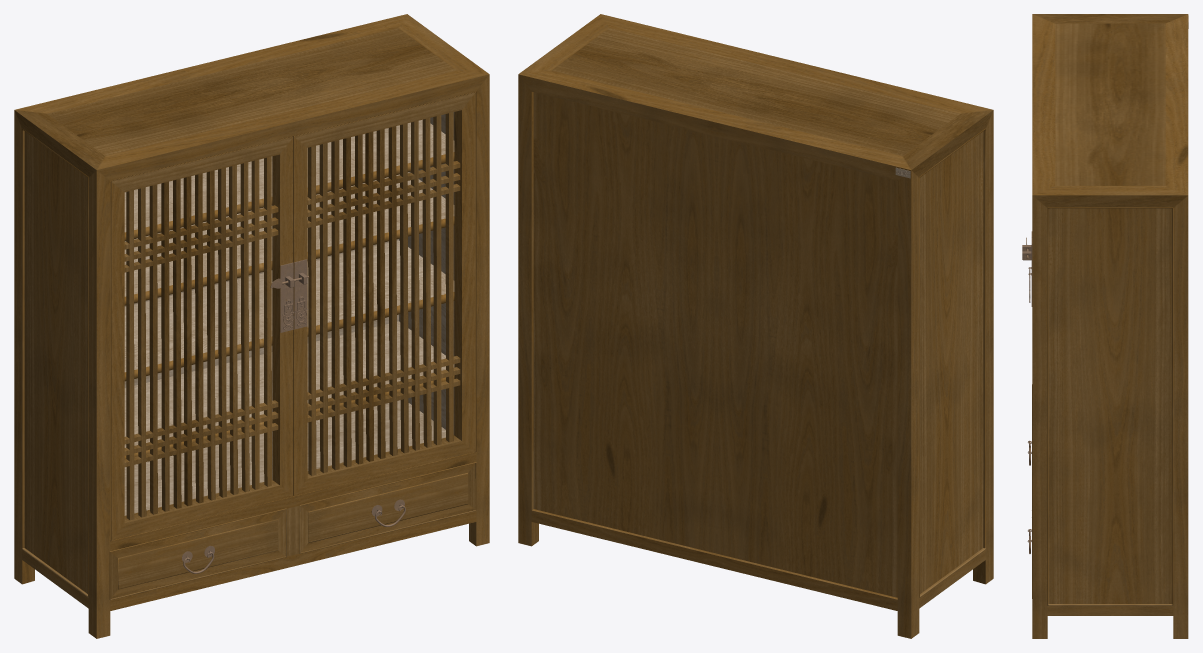
File: shoecabinet_lattice_lightwood.gltf
3 views of the same model, side by side, from view 1: azimuth 30°, elevation 25°; view 2: azimuth 150°, elevation 25°; view 3: azimuth 270°, elevation 25° (orthographic). The views are drawn at different scales.
Visible parts, largest first — view 1: cube2 (×2); view 2: cube2; view 3: cube2 (×2).
Boxes of the visible parts, box(x1,y1,x2,y2) form: cube2 (×2): box(14, 14, 489, 638); cube2: box(518, 14, 993, 638); cube2 (×2): box(1022, 14, 1188, 638).
Size of the model in its own units: 1.06 by 1.21 by 0.4115.
2 materials, 2 textured.
